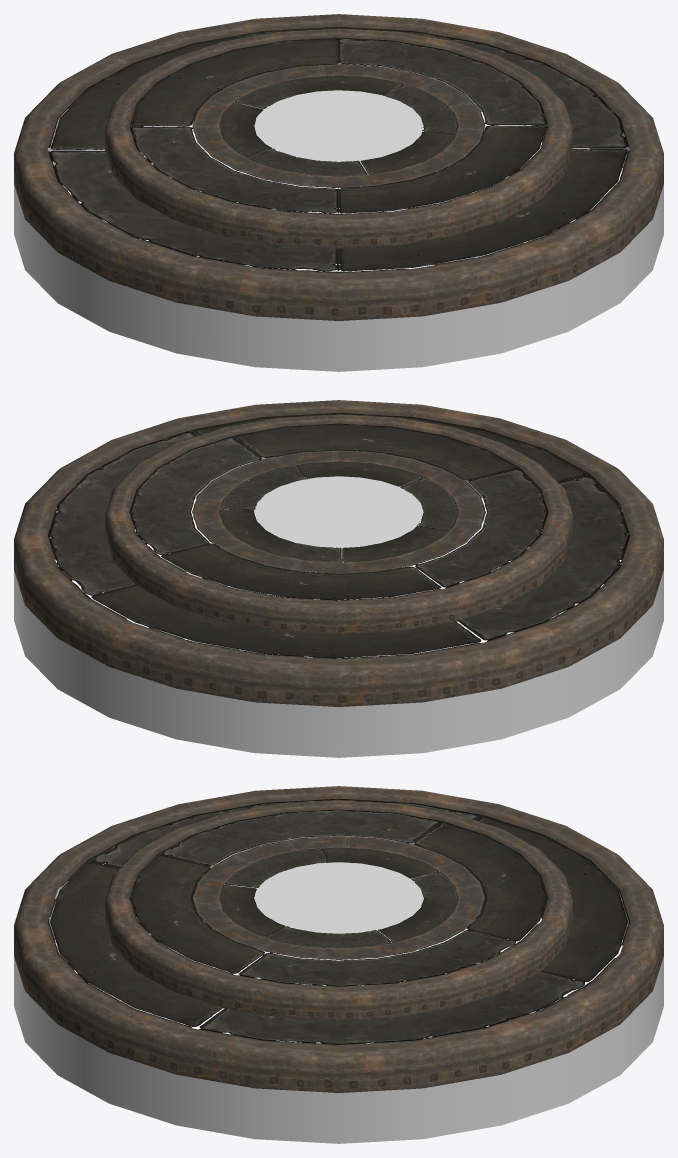
3 views of the same model, one above another, from view 1: azimuth 30°, elevation 25°; view 2: azimuth 150°, elevation 25°; view 3: azimuth 270°, elevation 25° (orthographic).
Parts seen in each view (by area): view 1: SM_Dowdun_Circle_Plinth_LOD0; view 2: SM_Dowdun_Circle_Plinth_LOD0; view 3: SM_Dowdun_Circle_Plinth_LOD0.
Part boxes in pixels (bbox=[...]): SM_Dowdun_Circle_Plinth_LOD0: bbox=[14, 14, 663, 371]; SM_Dowdun_Circle_Plinth_LOD0: bbox=[14, 400, 663, 757]; SM_Dowdun_Circle_Plinth_LOD0: bbox=[14, 786, 663, 1143].
Bounding box in the file's own units: 6.35 × 1.18 × 6.35.
2 materials, 1 textured.
